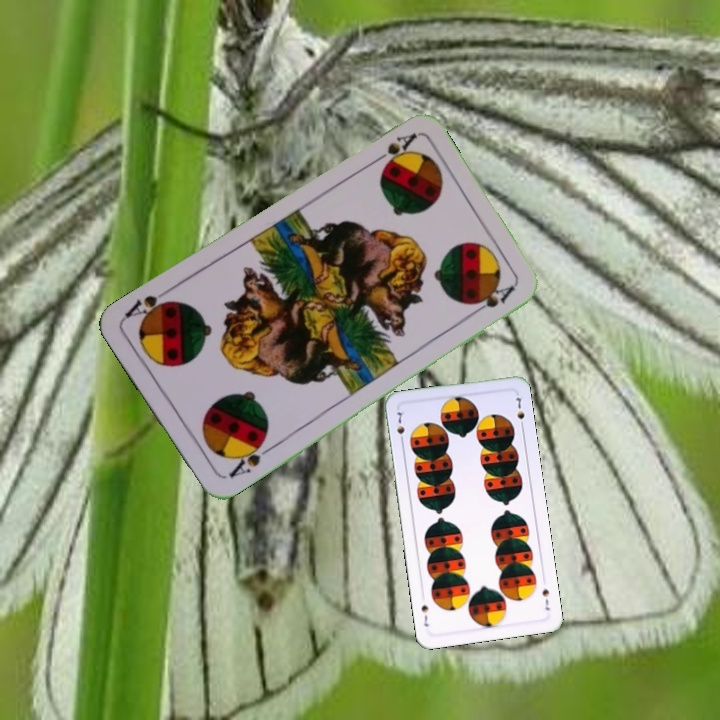S7: (393, 408, 407, 446), (538, 585, 552, 613)
SA: (224, 435, 274, 481), (366, 129, 419, 172)
